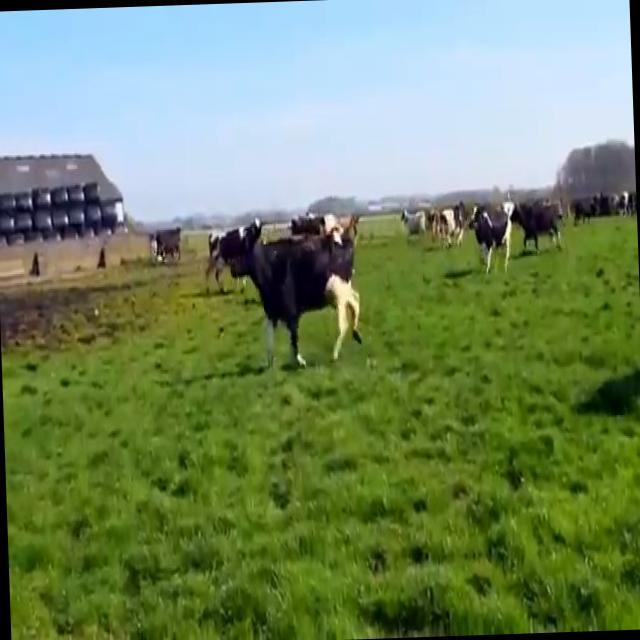COW: (208, 211, 361, 366), (468, 199, 561, 271), (401, 204, 463, 243), (149, 227, 179, 259)
